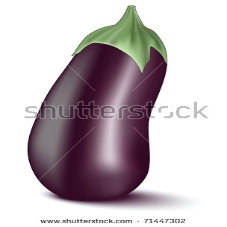eggplant: (25, 25, 167, 198)
